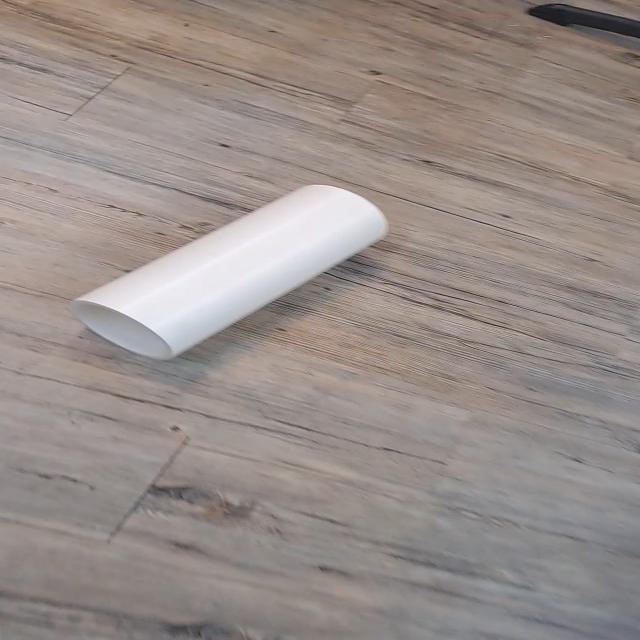CORAL: (60, 175, 404, 364)
